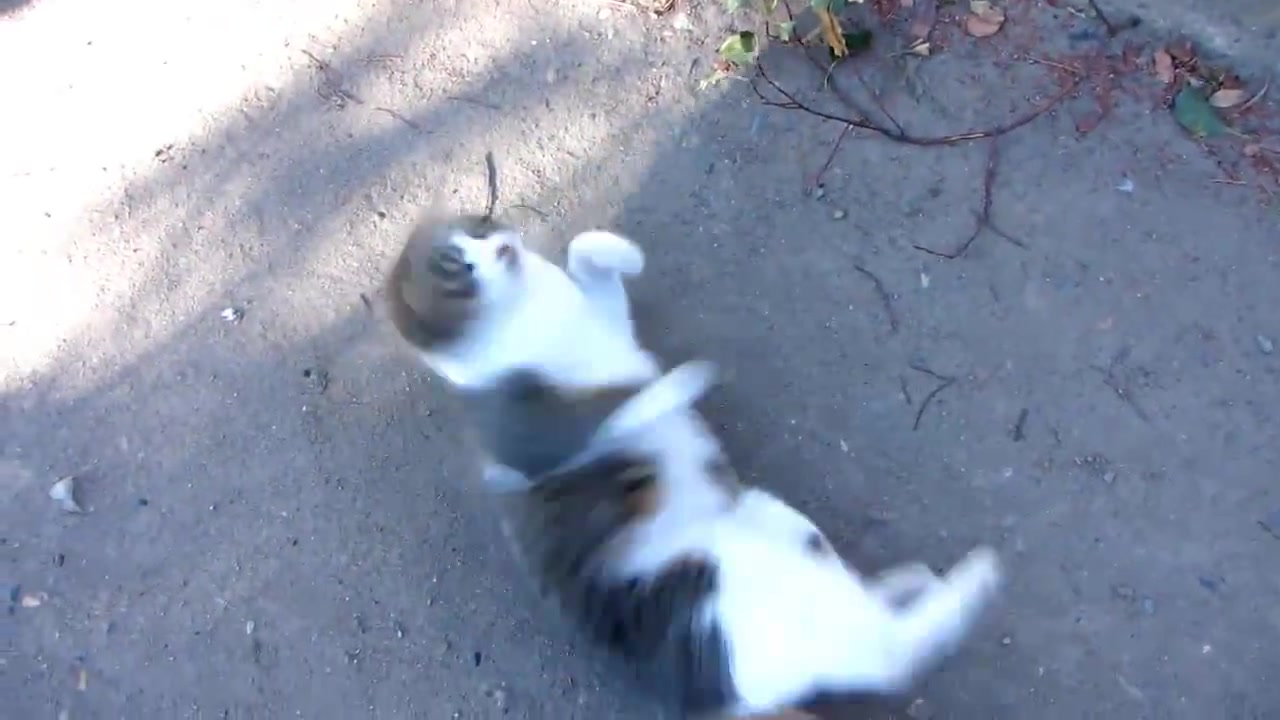cat: (374, 205, 1005, 720)
